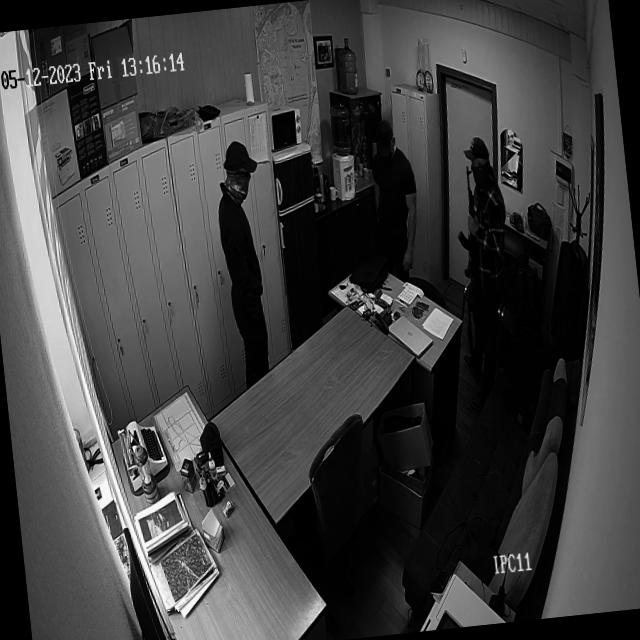gun: (450, 168, 491, 324)
person: (208, 143, 274, 378), (364, 120, 422, 266)
person with a gun: (447, 130, 524, 396)
